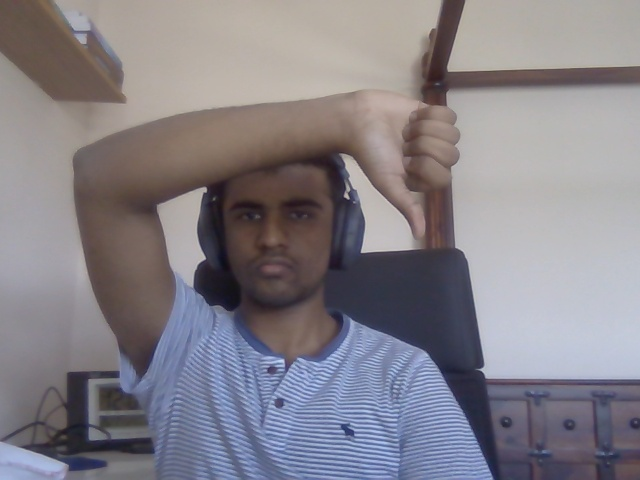No: (353, 89, 460, 239)
